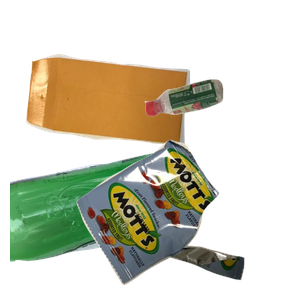glass: (10, 149, 203, 300)
paper: (23, 51, 206, 189)
plastic: (142, 77, 300, 186)
trash: (74, 137, 300, 300)
